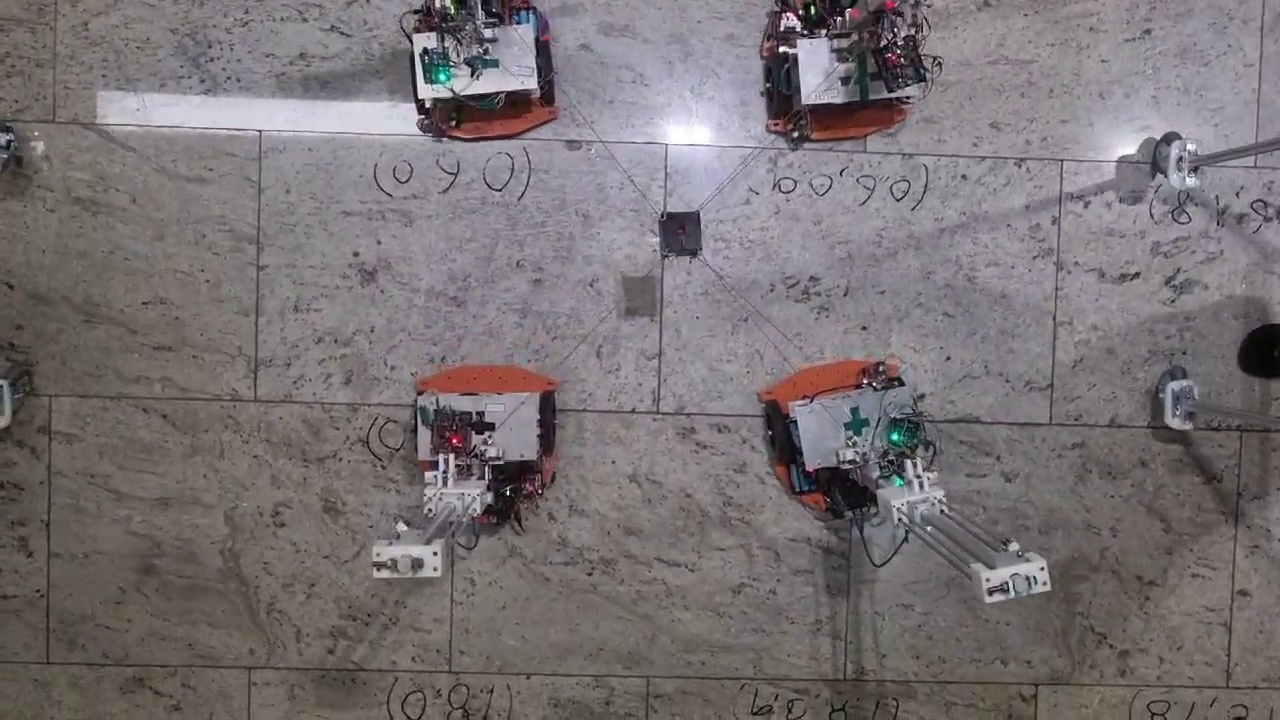e0: (659, 212, 701, 256)
r1: (765, 375, 913, 460)
r2: (763, 36, 913, 107)
r3: (409, 37, 554, 107)
r4: (416, 386, 555, 454)
y_+_axis_vector: (660, 415, 1051, 423)
y_-_axis_vector: (255, 400, 658, 413)
